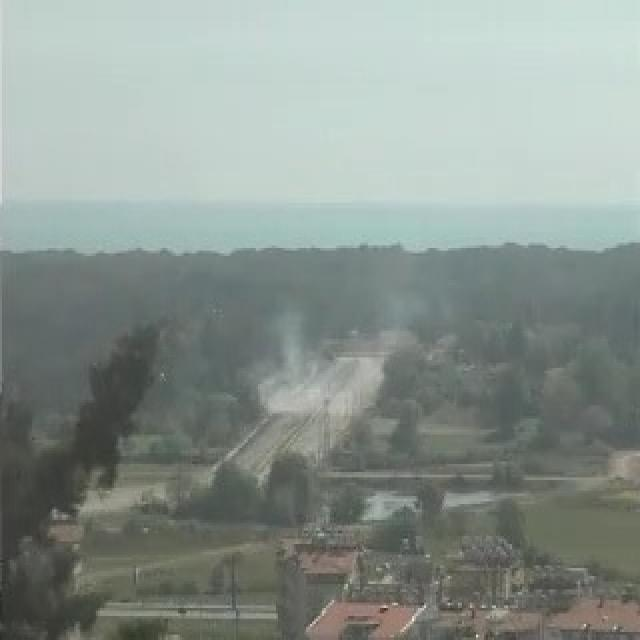smoke: (264, 321, 320, 403)
